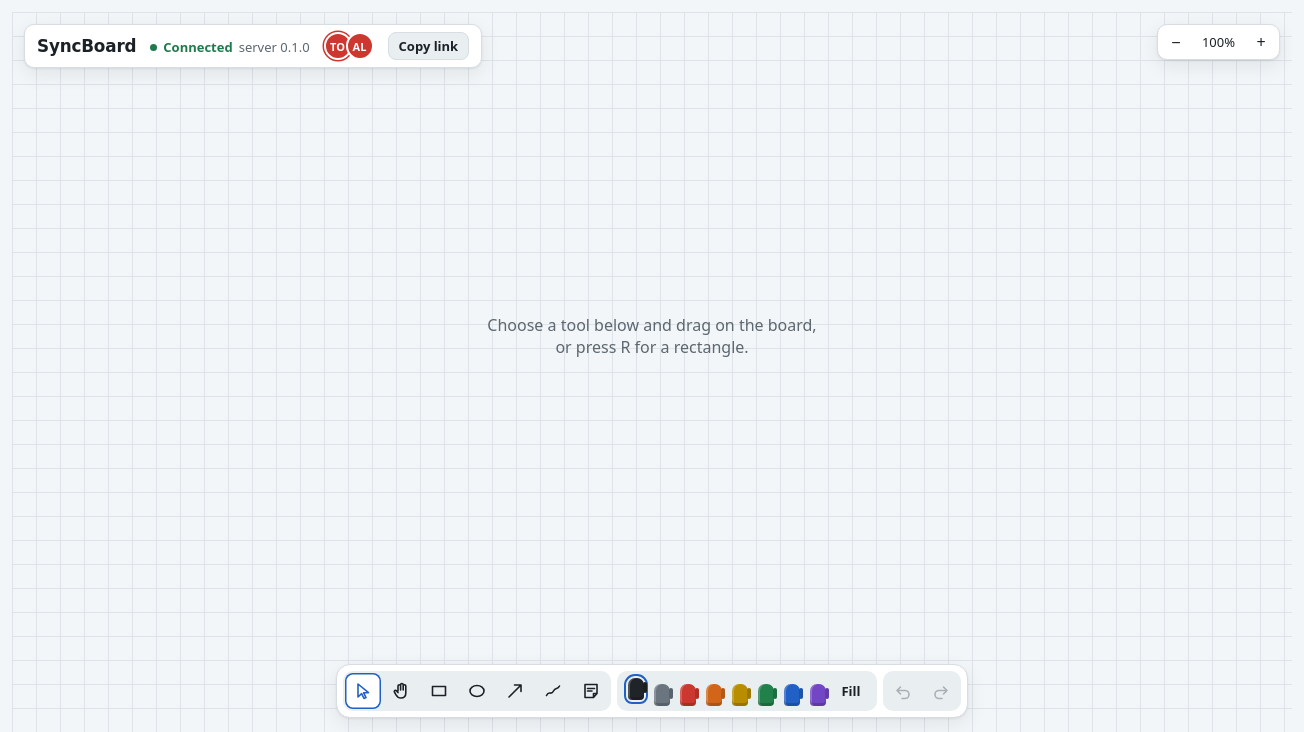
Test: people › you and the others on the board; renaming tells them
Expected: the picture named "Ann Lee" reads "AL", [352, 38, 367, 54]
Click the button with aria-label "You, Teal Otter: change your name". click: (338, 46)
box: [324, 32, 352, 60]
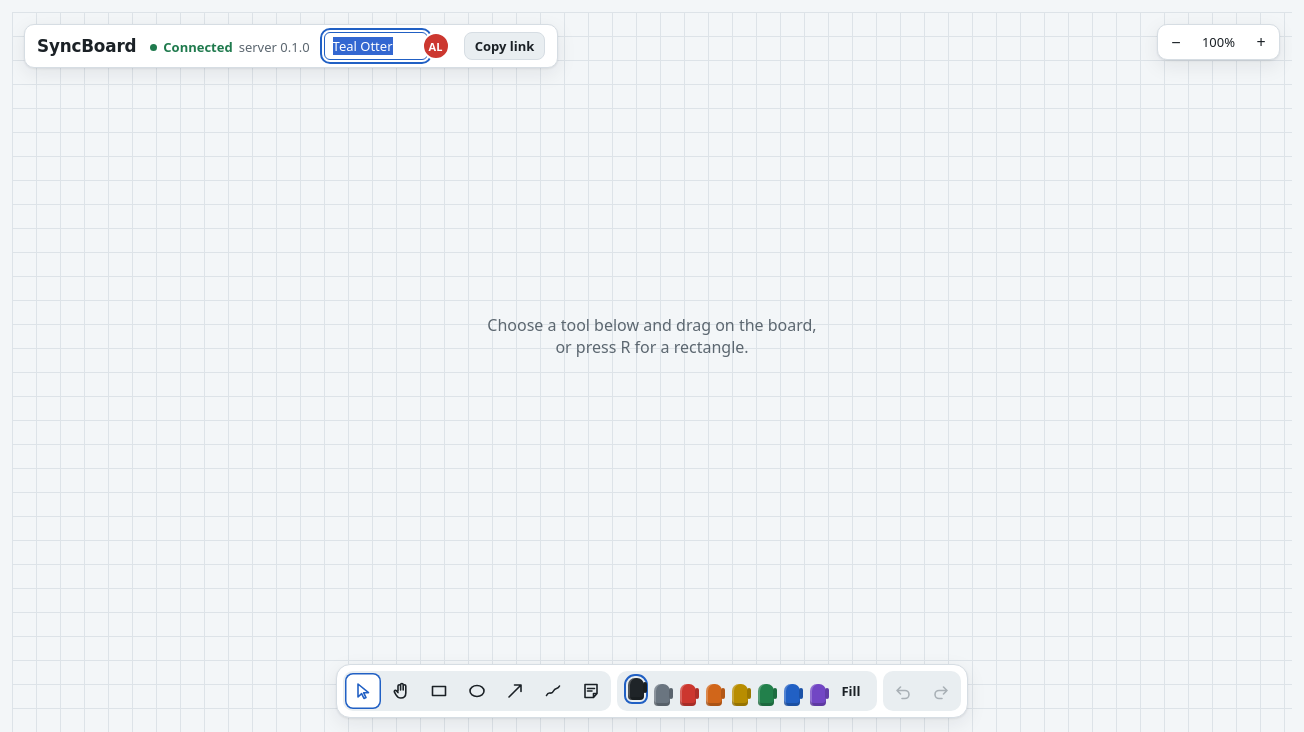
Replace the text in the field named "Your name" with "Mayank". click: (376, 46)
box: [324, 32, 428, 60]
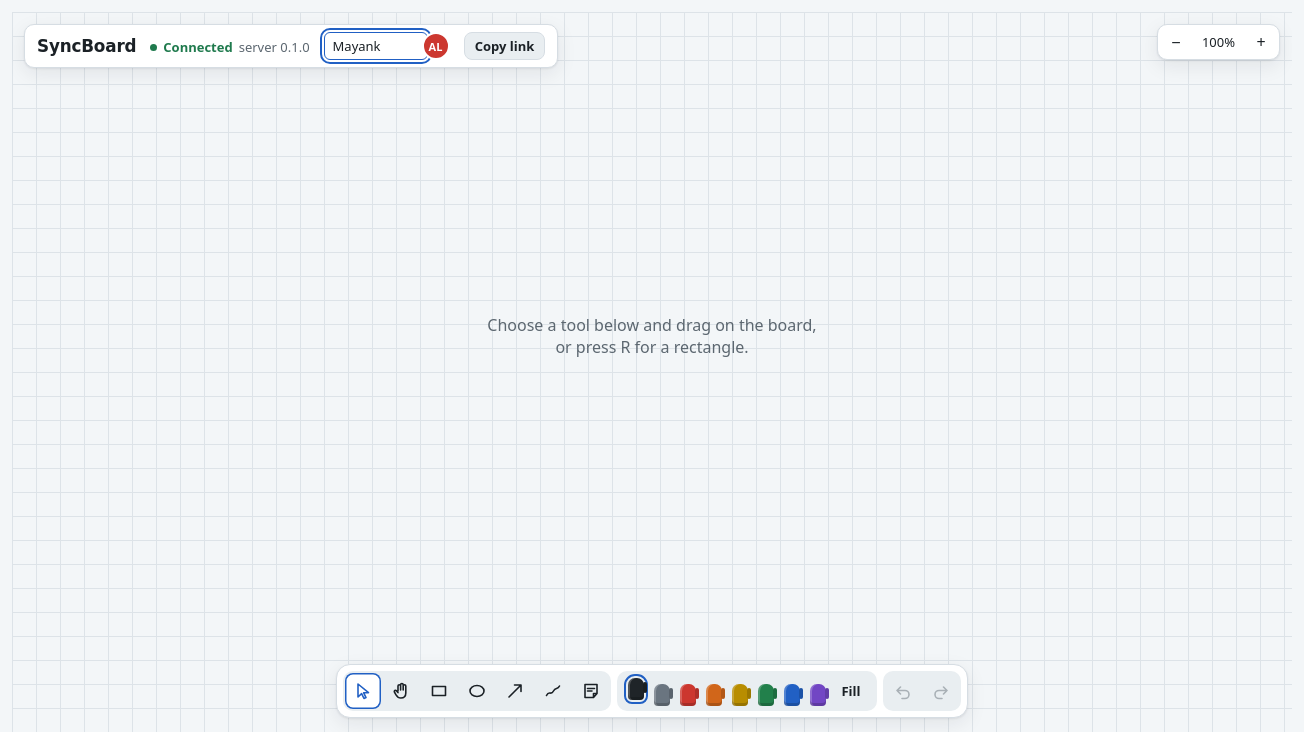
Press Enter in the field named "Your name", box [324, 32, 428, 60]
Wait 50 ms
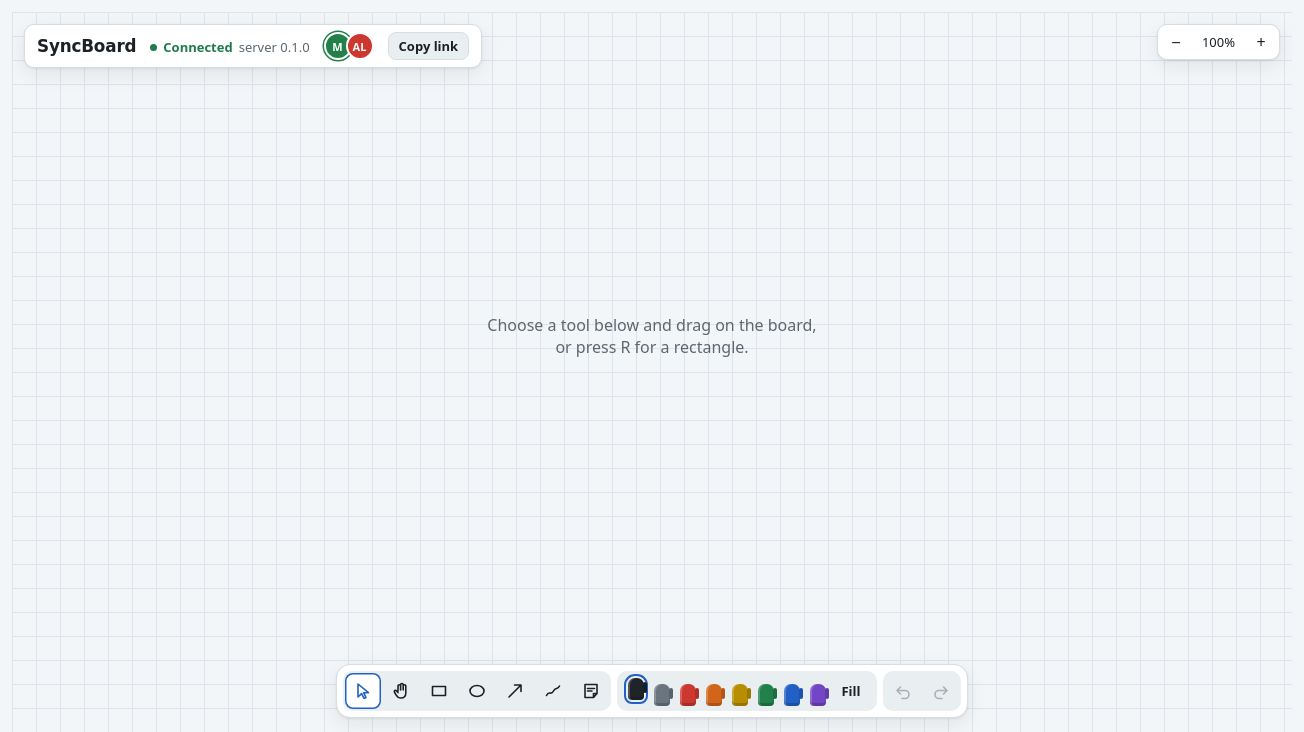
Expected: the button named "You, Mayank: change your name" is shown, [324, 32, 352, 60]
